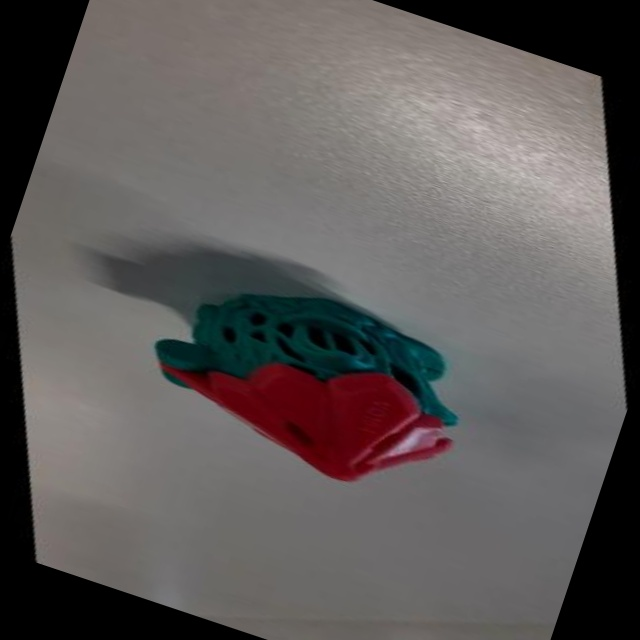House: (80, 215, 548, 556)
